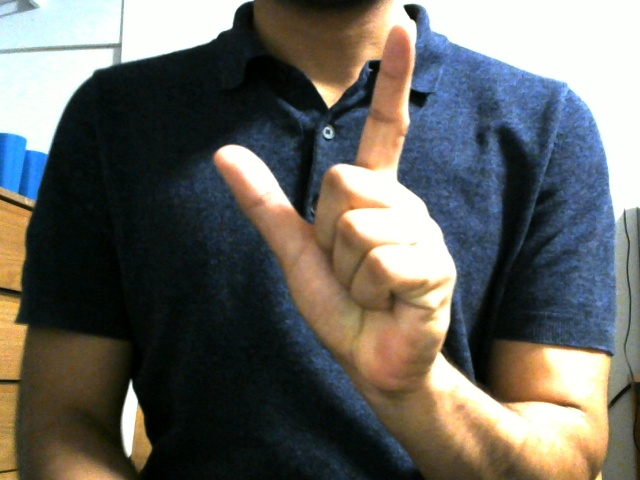L: (207, 13, 478, 378)
